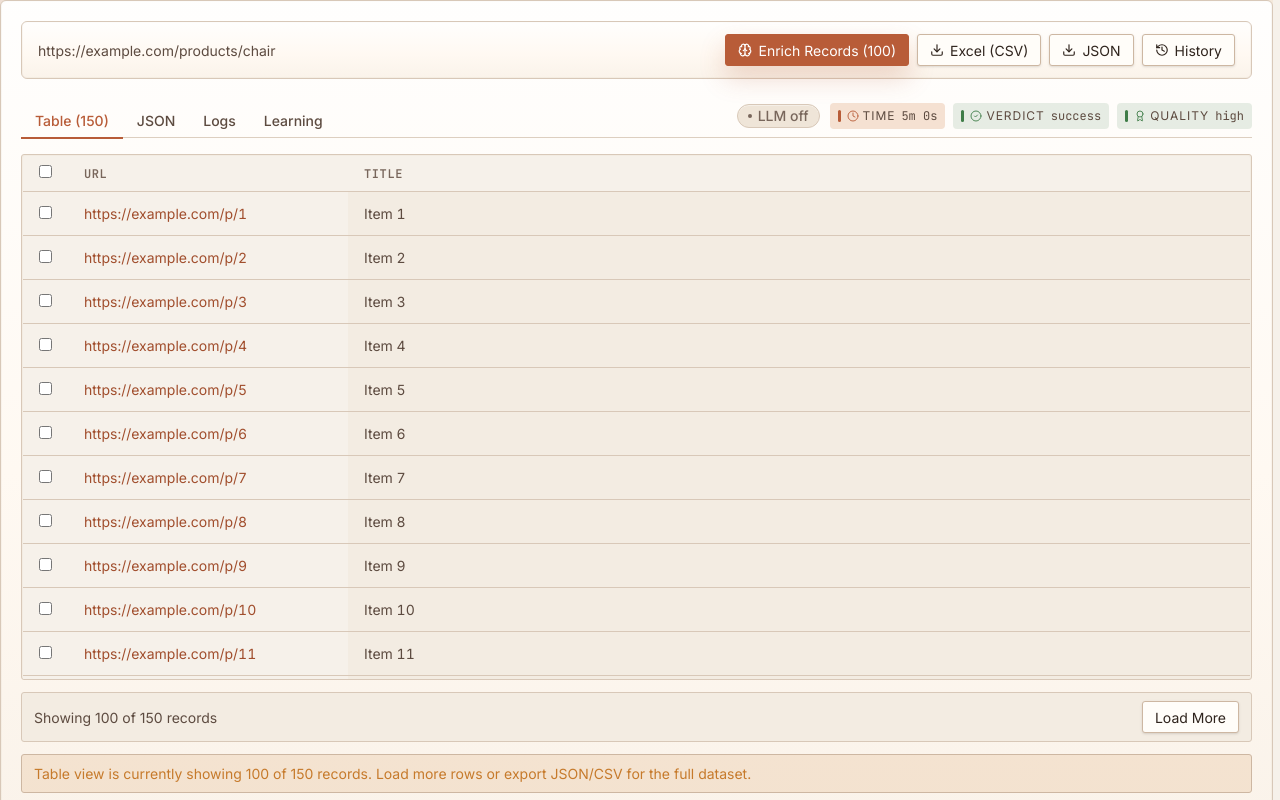
Test: CrawlRunScreen › supports progressive table loading for large result sets
This screenshot has width=1280, height=800.
What coordinates should you click on to do the following:
click the button "Load More"
I would click on:
 (1190, 717)
Its box is left=1142, top=701, right=1239, bottom=733.
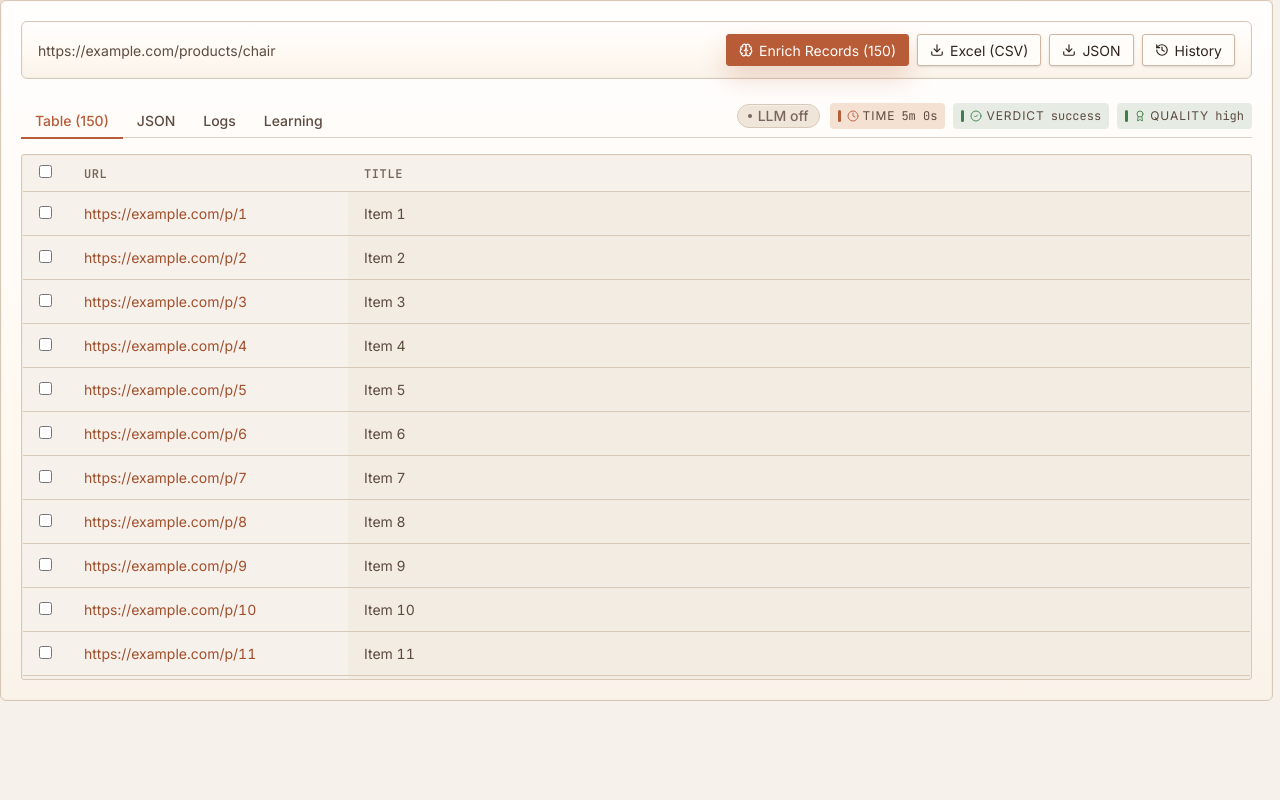
Expected: the button "Load More" is gone
